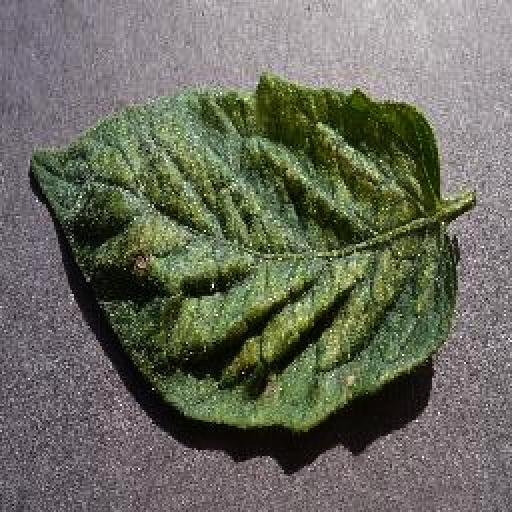disease_tomato: (30, 68, 456, 428)
